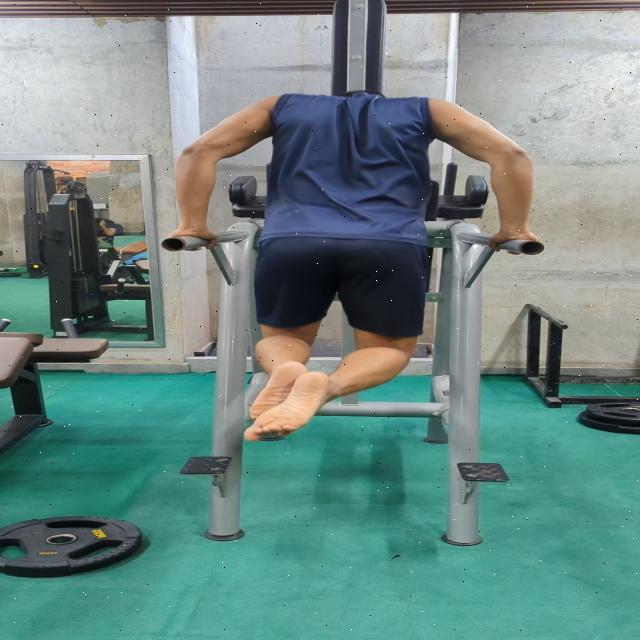Normal_Dips: (145, 70, 548, 447)
